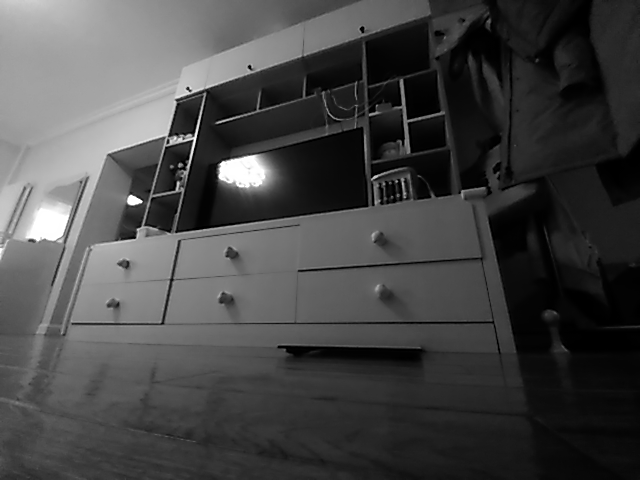scale: (275, 341, 424, 358)
